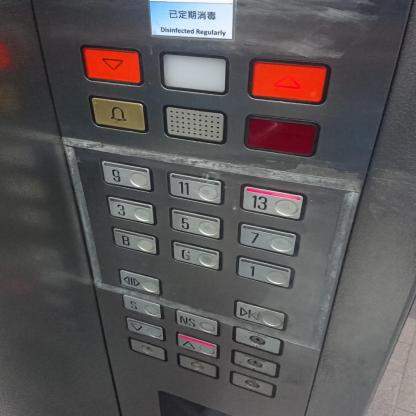1: (235, 254, 294, 290)
11: (165, 167, 225, 208)
13: (240, 180, 308, 220)
3: (105, 195, 157, 226)
5: (168, 205, 223, 240)
7: (237, 219, 300, 258)
9: (98, 157, 154, 193)
B: (110, 224, 162, 256)
G: (170, 240, 222, 272)
NS: (173, 307, 221, 335)
S: (121, 293, 165, 317)
alarm: (87, 92, 150, 135)
bt_keyhole: (125, 336, 168, 362), (229, 373, 276, 396), (230, 351, 277, 372), (233, 330, 280, 350), (177, 356, 219, 376)
close: (232, 296, 287, 331)
down: (78, 41, 146, 89), (124, 316, 165, 341)
empty: (157, 47, 231, 98), (243, 112, 321, 159)
open: (115, 265, 164, 297)
speaker: (160, 101, 228, 147)
up: (246, 53, 332, 108), (175, 330, 218, 358)
